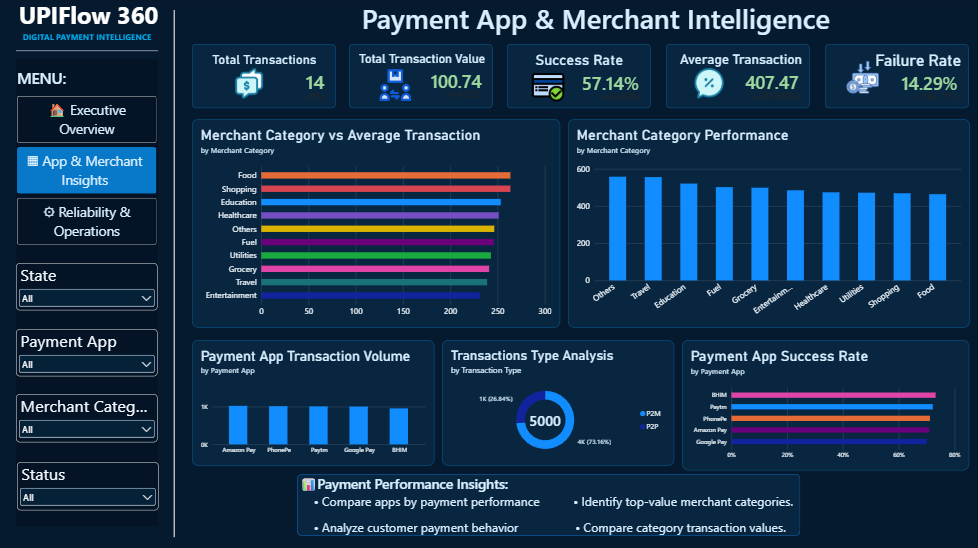

This screenshot's page, from the dashboard's own definition file:
{"tool":"powerbi","page":{"name":"▦ App & Merchant Insights","canvas":[1920,1080],"ordinal":1},"visuals":[{"type":"shape","title":"UPIFlow 360","box":[31.2,0,279,1035],"z":0,"group":"g1"},{"type":"kpi","title":"Total Transactions","fields":{"Goal":["CountNonNull(upiflow360 upi_transactions.transaction_id)"],"Indicator":["Calculations.Total Transactions"],"TrendLine":["upiflow360 upi_transactions.transaction_date"]},"box":[376.9,88.2,282.1,125.6],"z":0},{"type":"shape","box":[584.1,932.3,988.3,121.7],"z":0,"group":"g2"},{"type":"shape","box":[307.5,22.5,67.5,1035],"z":1000},{"type":"textbox","box":[584.1,932.3,988.3,121.7],"z":1000,"group":"g2"},{"type":"kpi","title":"Total Transaction Value","fields":{"Goal":["CountNonNull(upiflow360 upi_transactions.transaction_date)"],"Indicator":["Calculations.Total Transaction Value"],"TrendLine":["upiflow360 upi_transactions.transaction_id"]},"box":[685.5,88.2,282.1,125.6],"z":2000},{"type":"slicer","fields":{"Values":["upiflow360 upi_transactions.state"]},"box":[30.9,518,278.3,93.3],"z":2000,"group":"g1"},{"type":"kpi","title":"Average Transaction","fields":{"Goal":["CountNonNull(upiflow360 upi_transactions.transaction_id)"],"Indicator":["Calculations.Average Transaction"],"TrendLine":["upiflow360 upi_transactions.transaction_date"]},"box":[1307,88.2,282.1,125.6],"z":3000},{"type":"slicer","fields":{"Values":["upiflow360 upi_transactions.payment_app"]},"box":[30.9,648,278.3,93.3],"z":3000,"group":"g1"},{"type":"kpi","title":"Success Rate","fields":{"Goal":["Calculations.Success Rate Target"],"Indicator":["Calculations.Success Rate"],"TrendLine":["upiflow360 upi_transactions.transaction_date"]},"box":[996.2,88.2,282.1,125.6],"z":4000},{"type":"slicer","fields":{"Values":["upiflow360 upi_transactions.merchant_category"]},"box":[30.9,776.3,278.3,95],"z":4000,"group":"g1"},{"type":"group","id":"g1","title":"Group 1","box":[30.9,0,280,1035],"z":5000},{"type":"slicer","fields":{"Values":["upiflow360 upi_transactions.transaction_status"]},"box":[32.6,909.6,278.3,95],"z":5000,"group":"g1"},{"type":"textbox","box":[376.9,0,1527.4,72.7],"z":6000},{"type":"kpi","title":"Failure Rate","fields":{"Goal":["Calculations.Failure Rate Target"],"Indicator":["Calculations.Failure Rate"],"TrendLine":["upiflow360 upi_transactions.transaction_date"]},"box":[1620,88.2,282.1,125.6],"z":7000},{"type":"clusteredColumnChart","title":"Payment App Transaction Volume","fields":{"Category":["DimPaymentApp.Payment_App"],"Y":["Calculations.Total Transactions"]},"box":[376.9,670,476.1,246.9],"z":8000},{"type":"barChart","title":"Payment App Success Rate","fields":{"Category":["DimPaymentApp.Payment_App"],"Series":["DimPaymentApp.Payment_App"],"Y":["Calculations.Success Rate"]},"box":[1340.1,670,564.2,255.7],"z":9000},{"type":"donutChart","title":"Transactions Type Analysis","fields":{"Category":["DimTransactionType.Transaction_Type"],"Y":["Calculations.Total Transactions"]},"box":[868.4,670,456.2,246.9],"z":10000},{"type":"barChart","title":"Merchant Category vs Average Transaction","fields":{"Category":["DimMerchantCategory.Merchant_Category"],"Series":["DimMerchantCategory.Merchant_Category"],"Y":["Calculations.Average Transaction"]},"box":[376.9,235.8,722.9,410],"z":11000},{"type":"clusteredColumnChart","title":"Merchant Category Performance","fields":{"Category":["DimMerchantCategory.Merchant_Category"],"Y":["Calculations.Total Transactions"]},"box":[1115.3,235.8,789.1,410],"z":12000},{"type":"pageNavigator","title":"   MENU:","box":[32.9,134.3,274.3,351.4],"z":13000},{"type":"group","id":"g2","title":"Group 2","box":[584.1,932.3,987.4,123.4],"z":14000},{"type":"image","box":[423.2,134.4,130,63.9],"z":15000},{"type":"image","box":[714.1,134.4,123.4,70.5],"z":16000},{"type":"image","box":[1011.7,141.1,130,63.9],"z":17000},{"type":"image","box":[1326.9,134.4,130,63.9],"z":18000},{"type":"image","box":[1626.6,121.2,136.7,63.9],"z":19000}]}

Visuals, with their boxes in screenshot pixels (x1, y1, x2, y2), scaled from the page's 1920x1080 canvas onto the 978x548 screenshot:
"UPIFlow 360" shape: [left=16, top=0, right=158, bottom=525]
"Total Transactions" kpi: [left=192, top=45, right=336, bottom=108]
shape: [left=298, top=473, right=801, bottom=535]
shape: [left=157, top=11, right=191, bottom=537]
textbox: [left=298, top=473, right=801, bottom=535]
"Total Transaction Value" kpi: [left=349, top=45, right=493, bottom=108]
slicer - upiflow360 upi_transactions.state: [left=16, top=263, right=157, bottom=310]
"Average Transaction" kpi: [left=666, top=45, right=809, bottom=108]
slicer - upiflow360 upi_transactions.payment_app: [left=16, top=329, right=157, bottom=376]
"Success Rate" kpi: [left=507, top=45, right=651, bottom=108]
slicer - upiflow360 upi_transactions.merchant_category: [left=16, top=394, right=157, bottom=442]
"Group 1" group: [left=16, top=0, right=158, bottom=525]
slicer - upiflow360 upi_transactions.transaction_status: [left=17, top=462, right=158, bottom=510]
textbox: [left=192, top=0, right=970, bottom=37]
"Failure Rate" kpi: [left=825, top=45, right=969, bottom=108]
"Payment App Transaction Volume" clusteredColumnChart: [left=192, top=340, right=434, bottom=465]
"Payment App Success Rate" barChart: [left=683, top=340, right=970, bottom=470]
"Transactions Type Analysis" donutChart: [left=442, top=340, right=675, bottom=465]
"Merchant Category vs Average Transaction" barChart: [left=192, top=120, right=560, bottom=328]
"Merchant Category Performance" clusteredColumnChart: [left=568, top=120, right=970, bottom=328]
"   MENU:" pageNavigator: [left=17, top=68, right=156, bottom=246]
"Group 2" group: [left=298, top=473, right=800, bottom=536]
image: [left=216, top=68, right=282, bottom=101]
image: [left=364, top=68, right=427, bottom=104]
image: [left=515, top=72, right=582, bottom=104]
image: [left=676, top=68, right=742, bottom=101]
image: [left=829, top=61, right=898, bottom=94]
